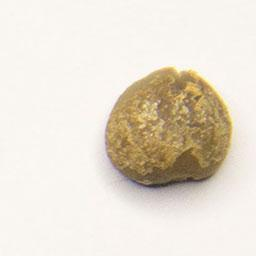premium: (103, 65, 235, 189)
